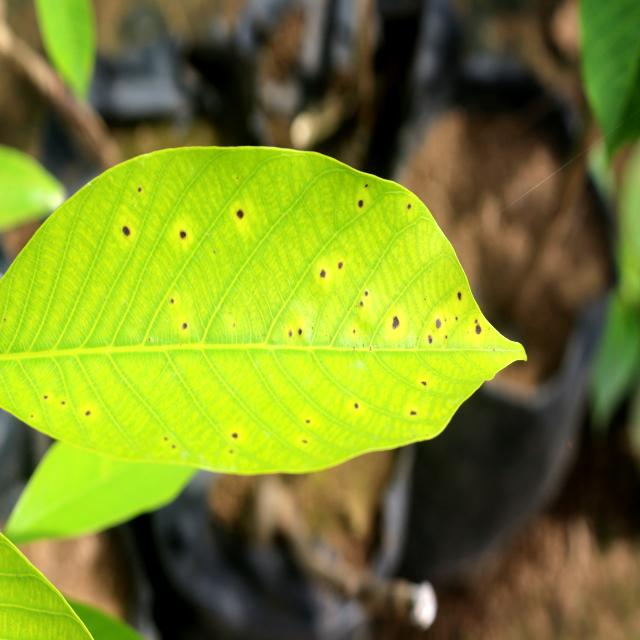Colletotrichum: (392, 316, 399, 328), (237, 210, 244, 219), (123, 226, 130, 235), (475, 325, 481, 335), (435, 320, 441, 329), (180, 231, 187, 238), (320, 270, 326, 278), (358, 200, 364, 208)
